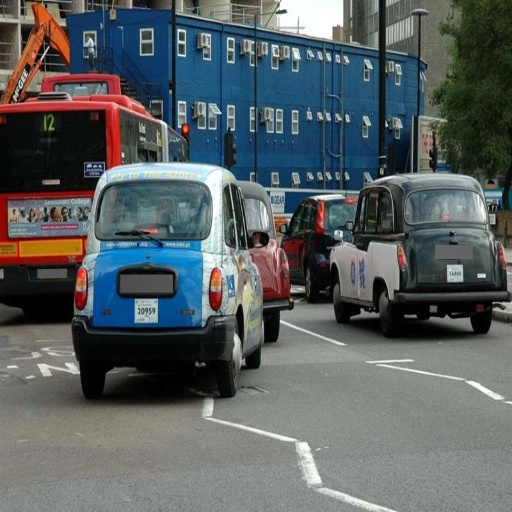back_bumper: (71, 300, 253, 367), (404, 271, 507, 305)
trunk: (88, 240, 243, 324), (354, 206, 509, 290)
